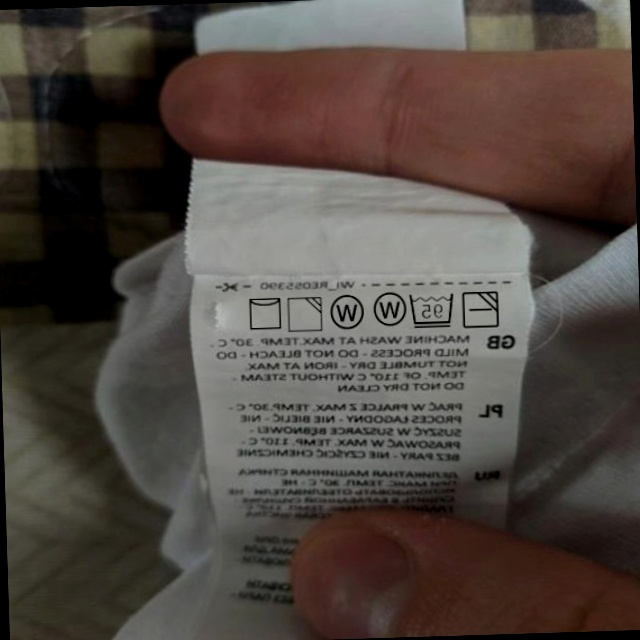95C: (407, 290, 456, 329)
dry_flat_in_shade: (461, 287, 501, 331)
line_dry: (244, 293, 284, 332)
shade_dry: (285, 294, 324, 334)
wet_clean: (328, 293, 365, 333), (370, 287, 406, 328)
